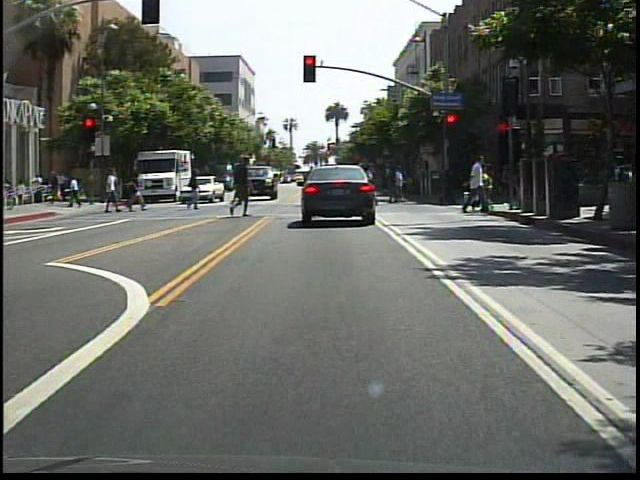person: (226, 154, 257, 223), (462, 151, 494, 217), (362, 164, 386, 220), (103, 168, 125, 215), (185, 168, 206, 214), (124, 168, 145, 213), (235, 167, 252, 207), (129, 170, 144, 215)
